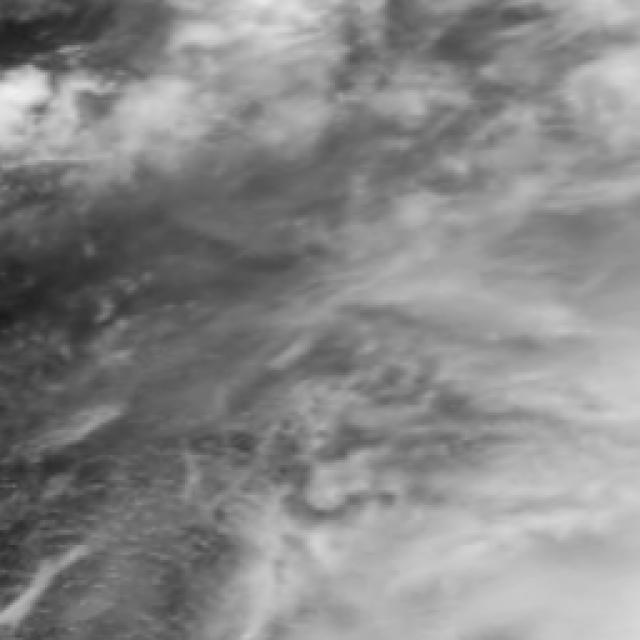CB: (431, 247, 637, 637)
